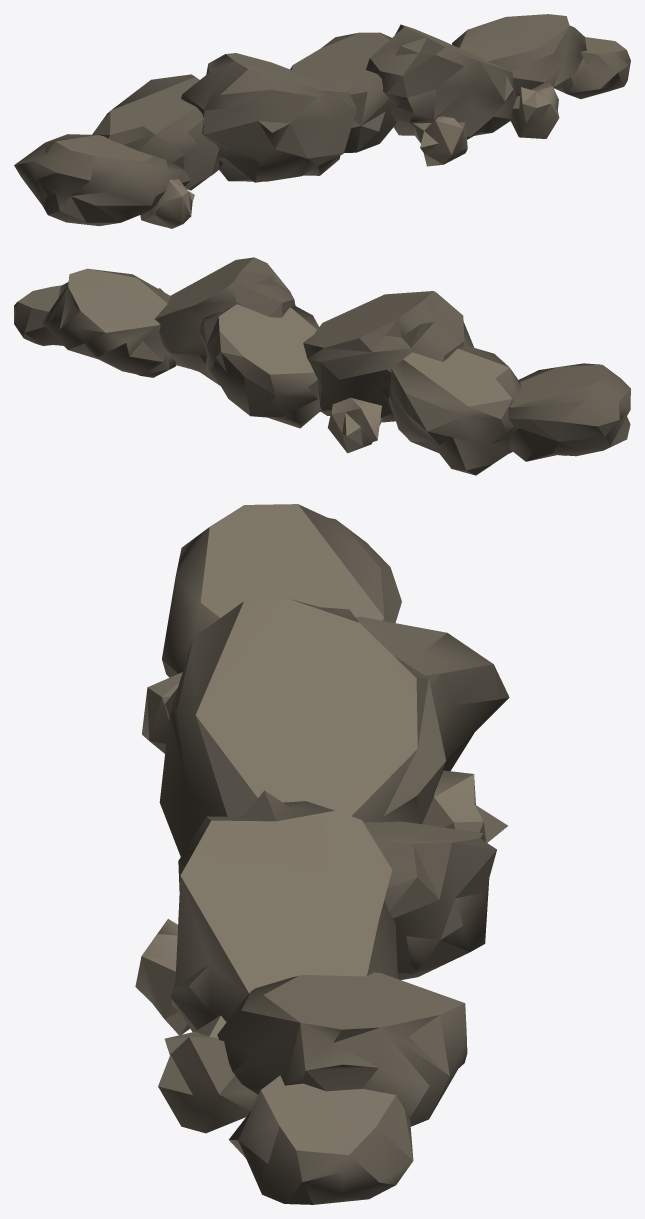
Rendered from rubble_berm_lod1.glb.
3 views of the same model, one above another, from view 1: azimuth 30°, elevation 25°; view 2: azimuth 150°, elevation 25°; view 3: azimuth 270°, elevation 25° (orthographic). The views are drawn at different scales.
Visible parts, largest first — view 1: LOD1_Stone, LOD1_Stone_cut; view 2: LOD1_Stone, LOD1_Stone_cut; view 3: LOD1_Stone_cut, LOD1_Stone.
Boxes of the visible parts, <box> form: LOD1_Stone: <box>14,24,630,226</box>; LOD1_Stone_cut: <box>55,14,626,228</box>; LOD1_Stone: <box>14,257,630,475</box>; LOD1_Stone_cut: <box>18,257,608,453</box>; LOD1_Stone_cut: <box>135,504,507,1155</box>; LOD1_Stone: <box>159,504,509,1204</box>.
Size of the model in its own units: 5.74 by 1.21 by 1.54.
